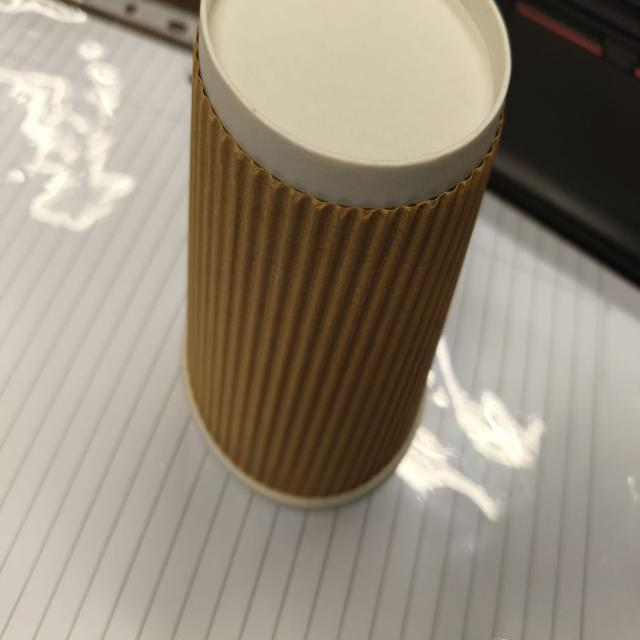Browncup: (200, 6, 504, 497)
